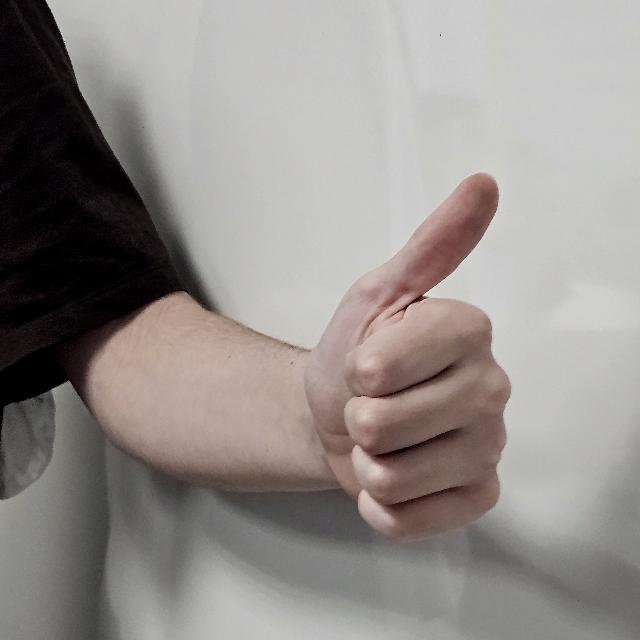Start: (307, 172, 511, 554)
